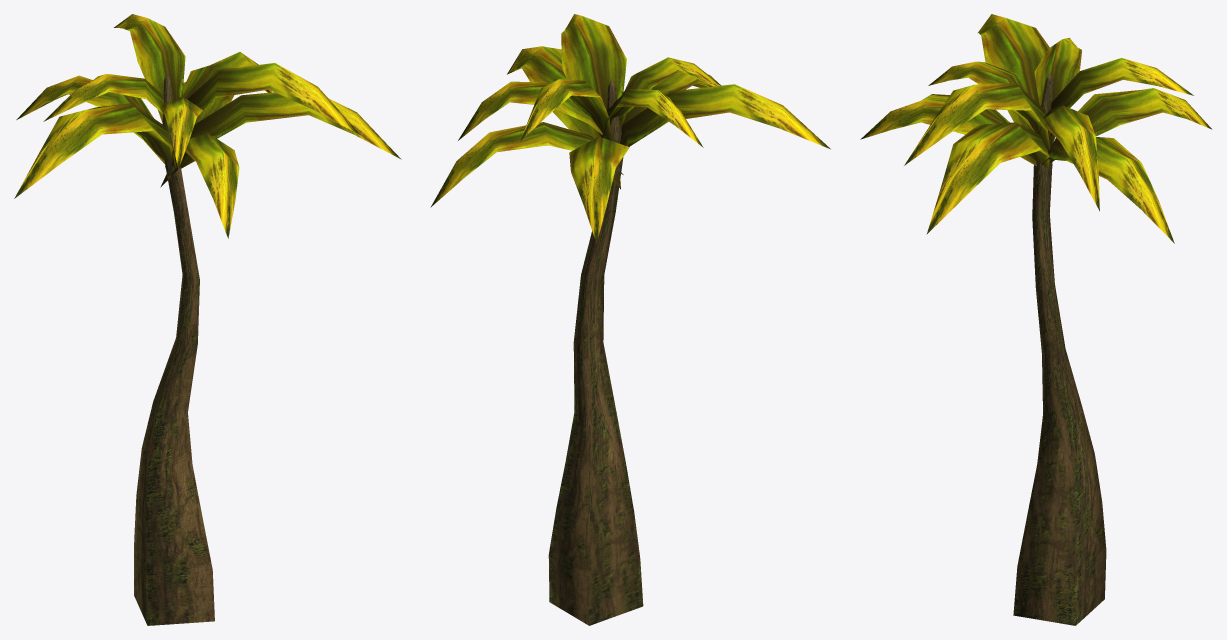
The model's file is Tree01.FBX.
The picture shows the model from 3 angles, left to right: view 1: azimuth 30°, elevation 25°; view 2: azimuth 150°, elevation 25°; view 3: azimuth 270°, elevation 25°; orthographic projection. The views are drawn at different scales.
Visible parts, largest first — view 1: Leaf, Bark; view 2: Leaf, Bark; view 3: Leaf, Bark.
Part boxes in pixels (bbox=[...]): Leaf: bbox=[14, 14, 401, 238]; Bark: bbox=[134, 72, 214, 625]; Leaf: bbox=[430, 14, 830, 243]; Bark: bbox=[548, 79, 643, 625]; Leaf: bbox=[860, 14, 1212, 243]; Bark: bbox=[1013, 72, 1106, 625].
Bounding box in the file's own units: 736 × 1099 × 636.
